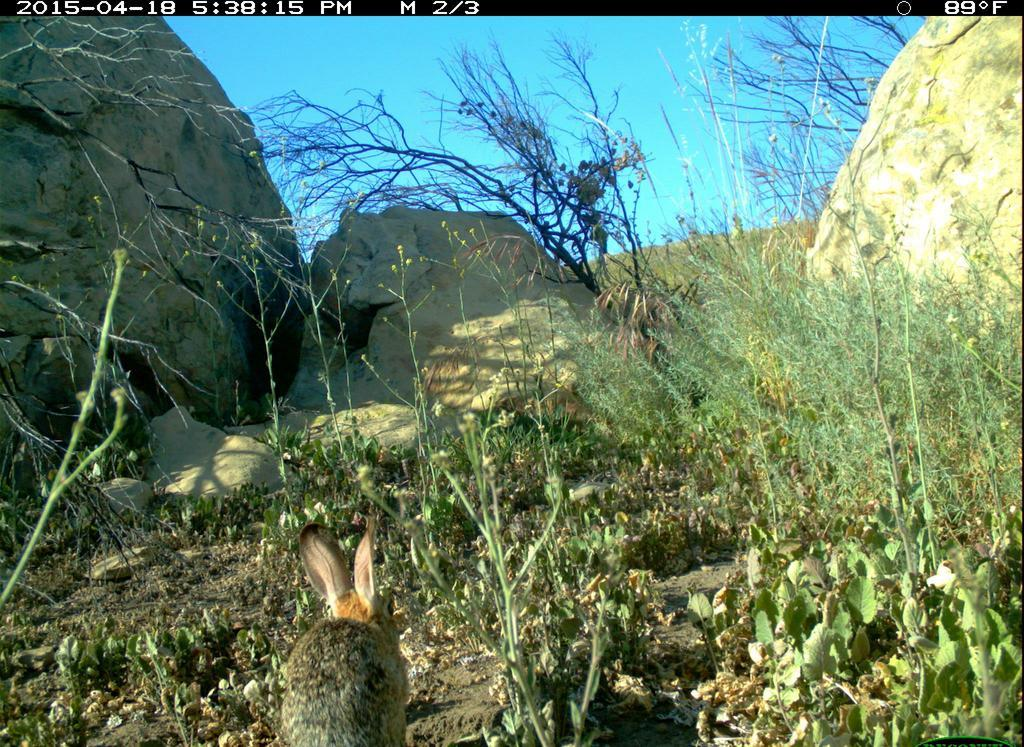rabbit: (274, 519, 414, 747)
